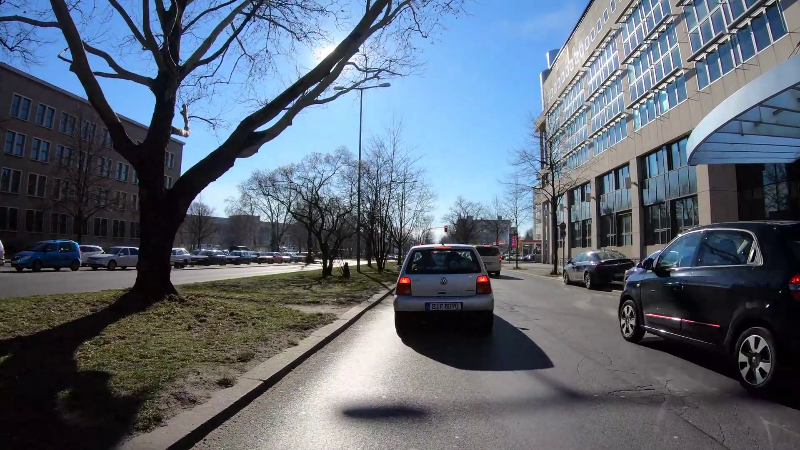Plate: (423, 302, 464, 311), (611, 271, 622, 279), (484, 260, 492, 266)
